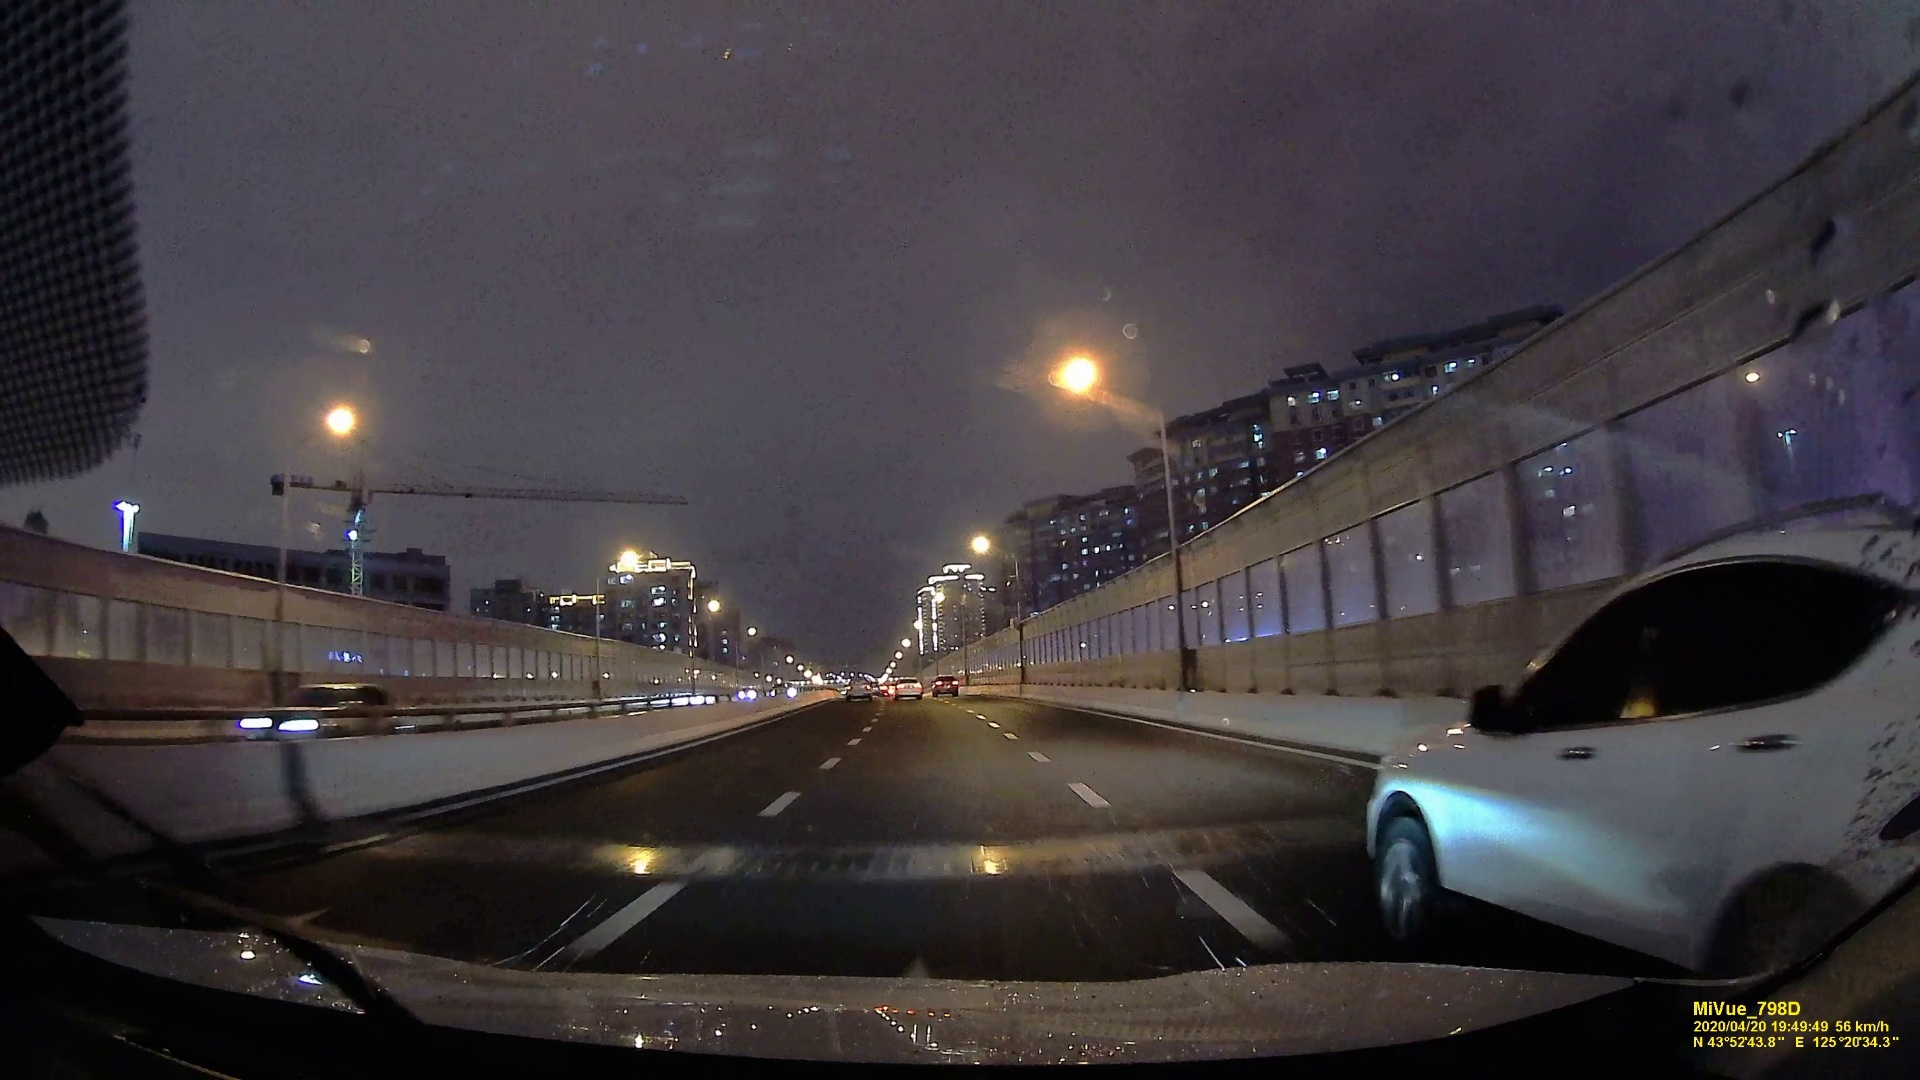vehicle: (1362, 524, 1913, 972), (245, 676, 396, 741), (845, 676, 876, 702), (894, 676, 923, 702), (932, 674, 963, 698)
